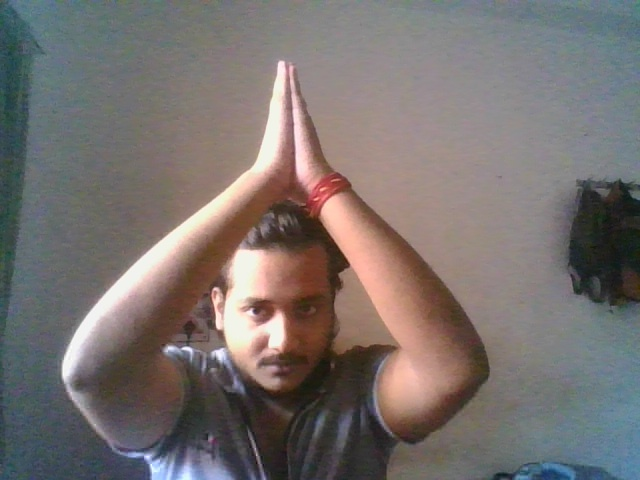ThankYou: (258, 59, 323, 186)
